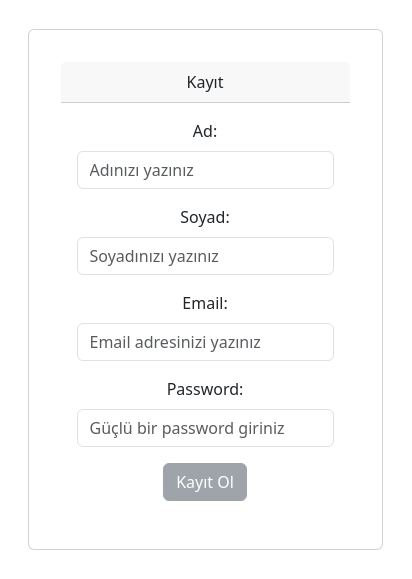
Scenario: Register Page › Error Messages › name input throws error for 2 chars
Type "ca" into the field with test id "ad-input".
click(206, 170); type("ca")  # box [77, 151, 334, 189]
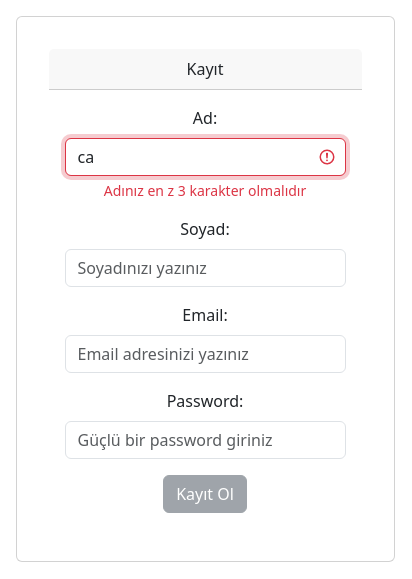
Check: the text "Adınız en z 3 karakter olmalıdır" is shown, box [104, 181, 306, 200]
